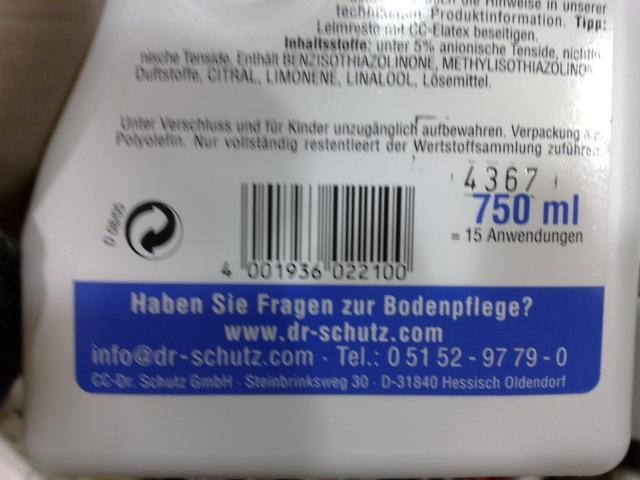Barcode: (212, 175, 428, 283)
